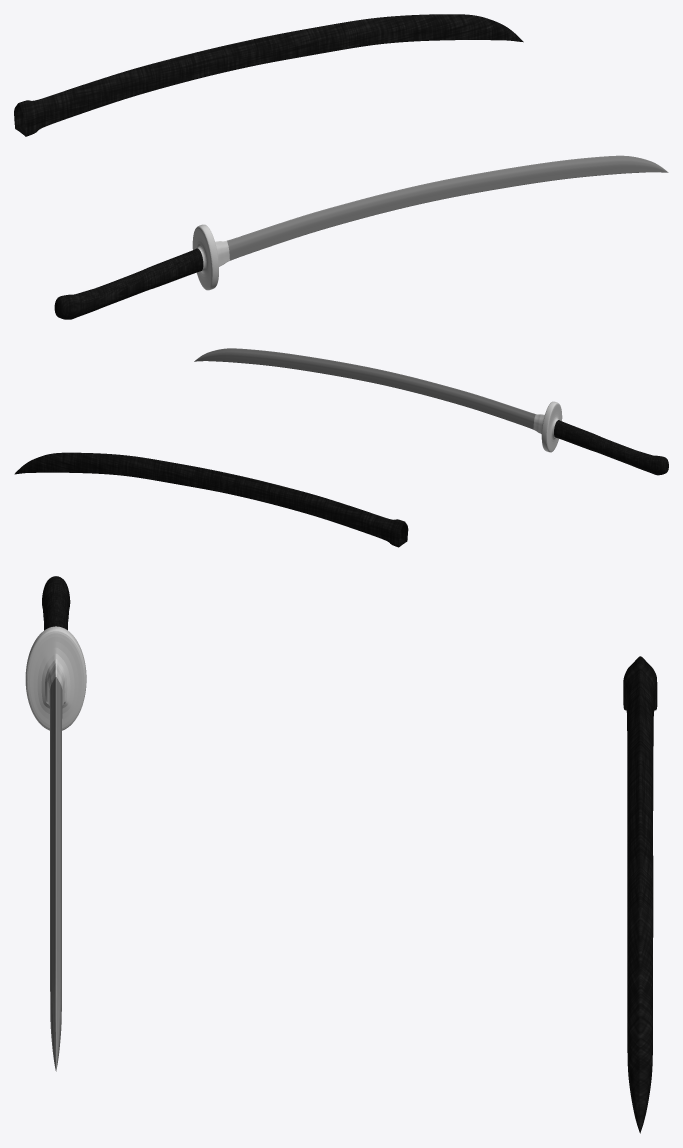
The model's file is YangtsuKen2.fbx.
The picture shows the model from 3 angles, top to bottom: view 1: azimuth 30°, elevation 25°; view 2: azimuth 150°, elevation 25°; view 3: azimuth 270°, elevation 25°; orthographic projection. The views are drawn at different scales.
Visible parts, largest first — view 1: Circle.001, Circle; view 2: Circle.001, Circle; view 3: Circle.001, Circle.
Boxes of the visible parts, left/top/right/bottom form: Circle.001: left=14, top=14, right=523, bottom=136; Circle: left=54, top=155, right=668, bottom=319; Circle.001: left=14, top=452, right=408, bottom=547; Circle: left=194, top=348, right=668, bottom=475; Circle.001: left=623, top=656, right=657, bottom=1133; Circle: left=25, top=576, right=86, bottom=1071.
Bounding box in the file's own units: 882 × 101 × 476.
